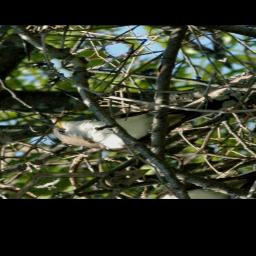Cuckoo: (38, 61, 256, 168)
